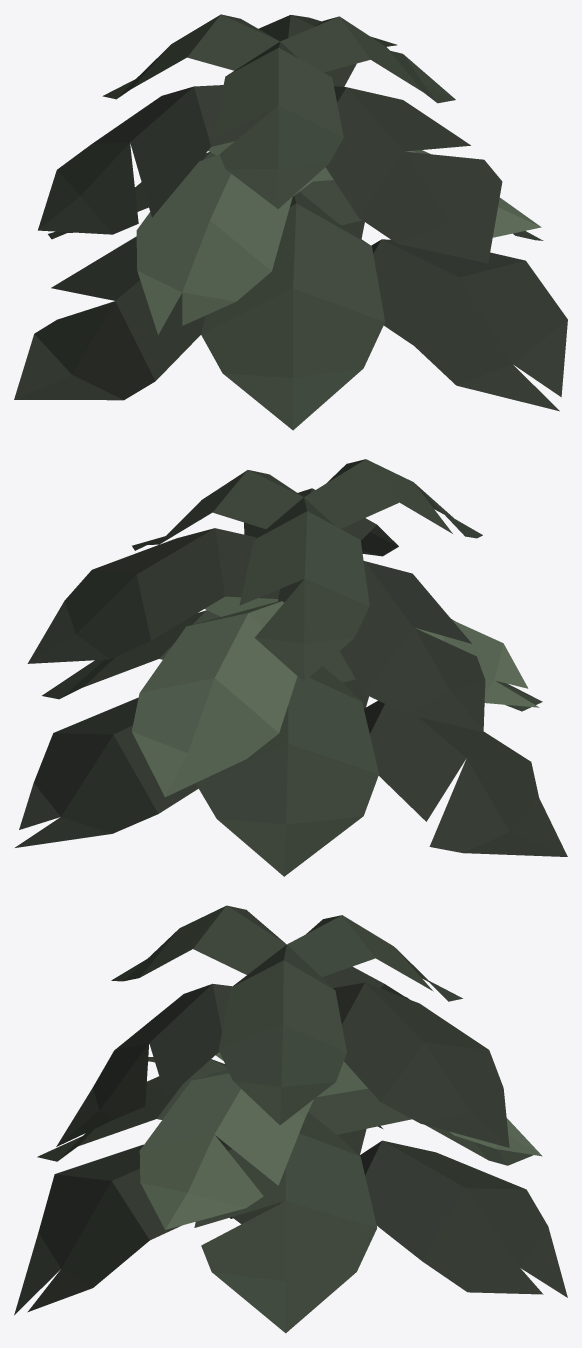
File: crypt_fern.gltf
3 renders of one model, top to bottom at view 1: azimuth 30°, elevation 25°; view 2: azimuth 150°, elevation 25°; view 3: azimuth 270°, elevation 25°, orthographic.
Visible parts, largest first — view 1: crypt_fern; view 2: crypt_fern; view 3: crypt_fern.
Boxes of the visible parts, bbox=[...] form: crypt_fern: bbox=[14, 14, 567, 430]; crypt_fern: bbox=[15, 459, 567, 876]; crypt_fern: bbox=[14, 905, 567, 1333].
Size of the model in its own units: 1.41 by 0.859 by 1.29.
1 material, 1 textured.
